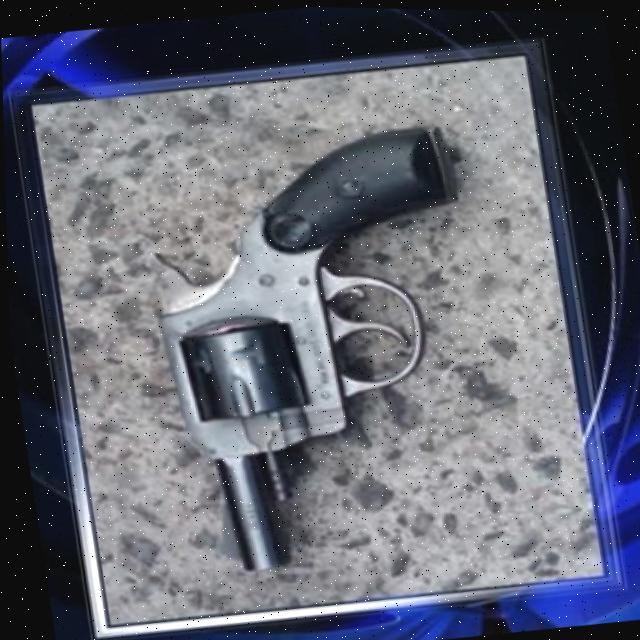pistol: (123, 110, 521, 582)
